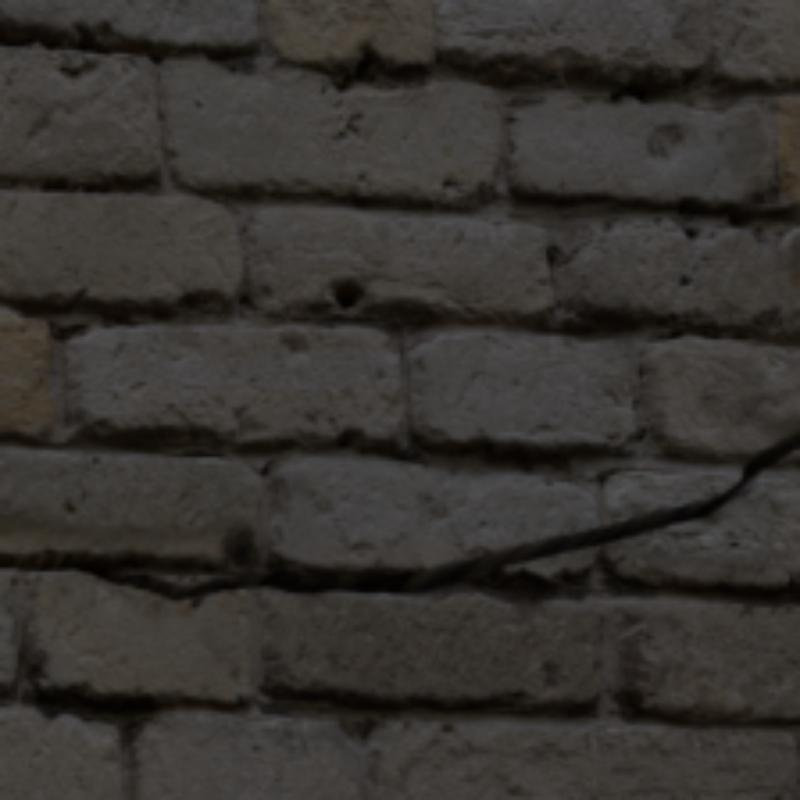pothole: (0, 429, 796, 596)
